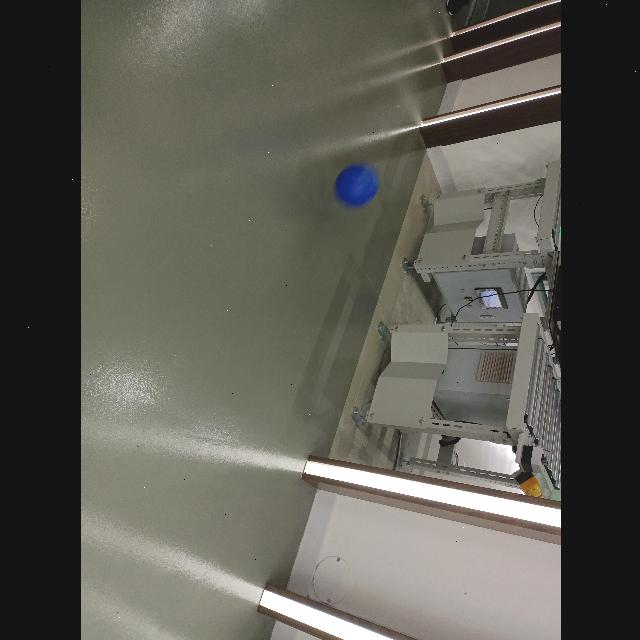B: (333, 162, 379, 208)
